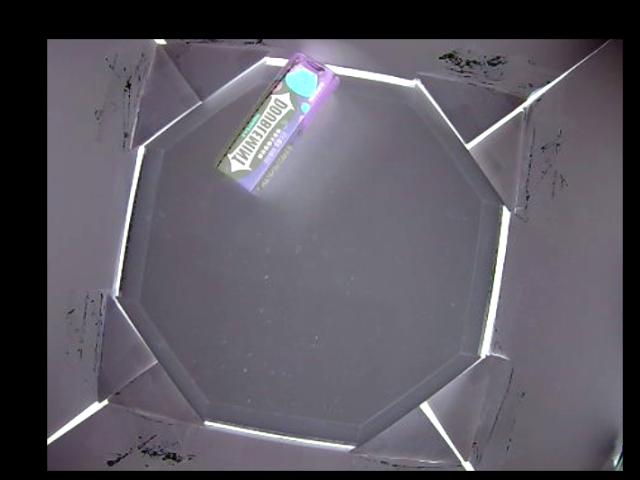Bottle: (214, 51, 335, 194)
